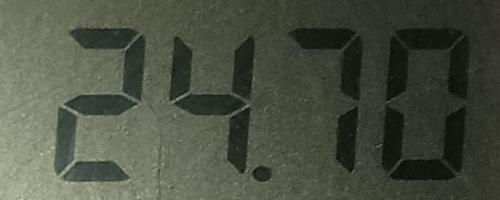.: (252, 163, 273, 189)
